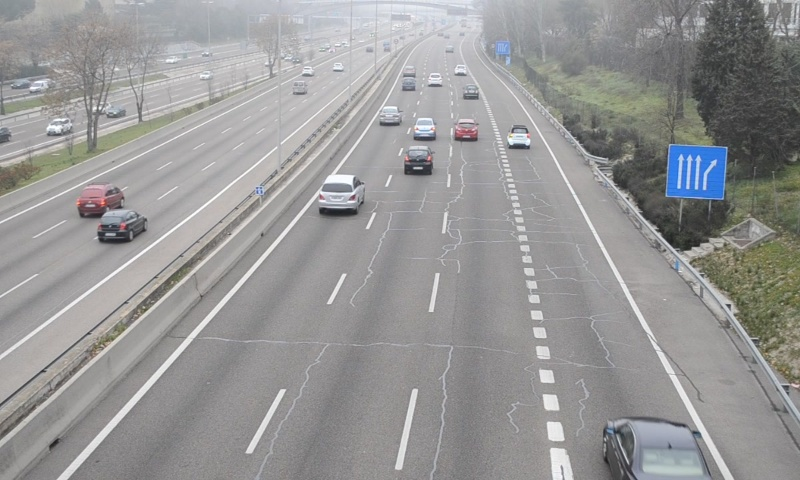car: (602, 415, 711, 478), (315, 173, 365, 211), (403, 146, 434, 175), (508, 124, 531, 150), (455, 118, 479, 142), (413, 117, 436, 140), (378, 106, 402, 127), (462, 84, 480, 100), (400, 77, 416, 92), (426, 72, 443, 86)
